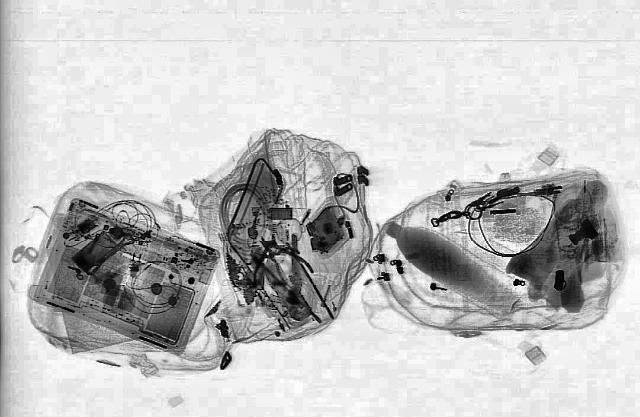Pliers: (235, 232, 329, 324), (232, 232, 316, 286)
